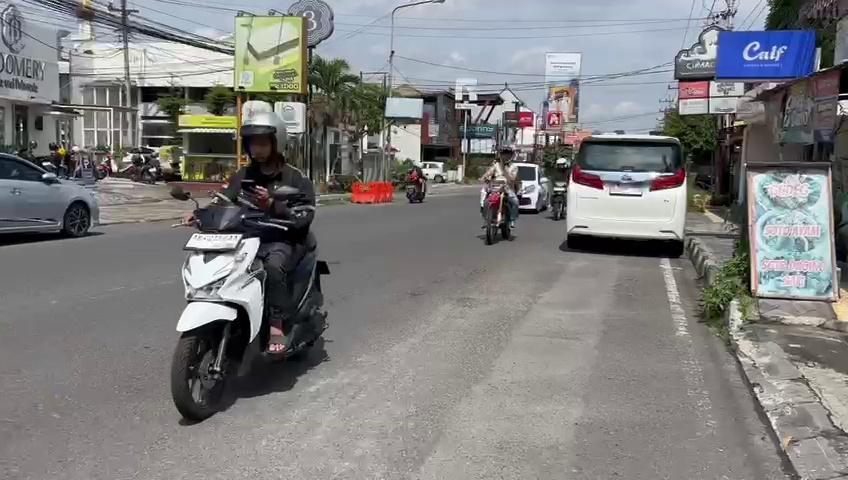helm: (235, 109, 290, 168)
riding: (166, 103, 340, 431)
